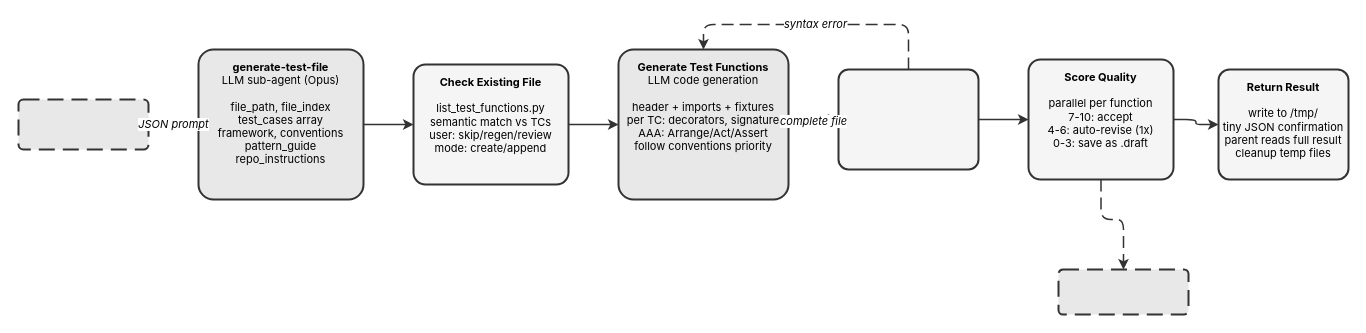
This 1366x333 diagram has some shape labels left out. Here are the shapes that lost their labels. From the top down, the box of each, then its label:
(17, 98, 149, 150): /case-implement (parallel per file)
(837, 68, 979, 170): Validate Syntax py_compile check fix once if error .draft if still invalid
(1057, 268, 1189, 315): /score-test-function
